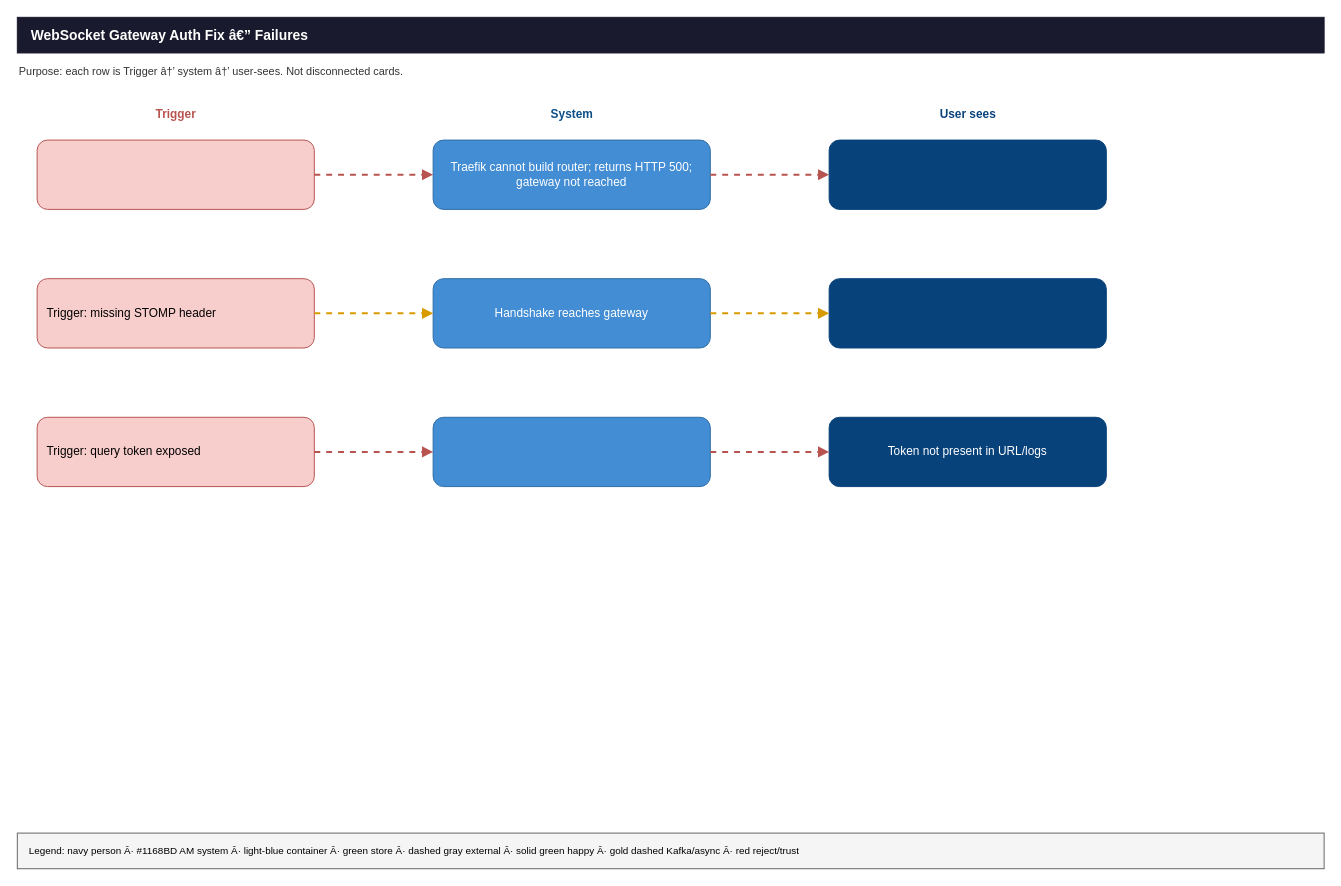
This 1341x886 diagram has some shape labels left out. Here are the shapes that lost their labels. From the top down, the centre of each, then its label:
At pixel 175 174: "Trigger: Middleware missing or wrong namespace".
At pixel 967 174: "Browser reports handshake 500".
At pixel 967 313: "STOMP rejection; no subscriptions".
At pixel 571 451: "Log/request pipeline redacts query".
